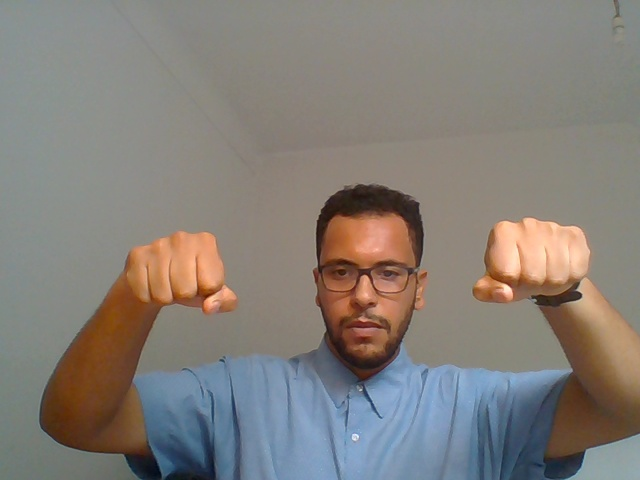yes: (454, 195, 640, 375), (94, 199, 259, 392)
